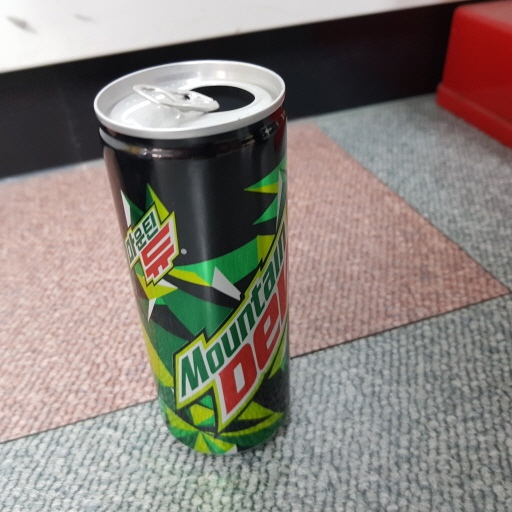Metal_0: (90, 61, 297, 456)
